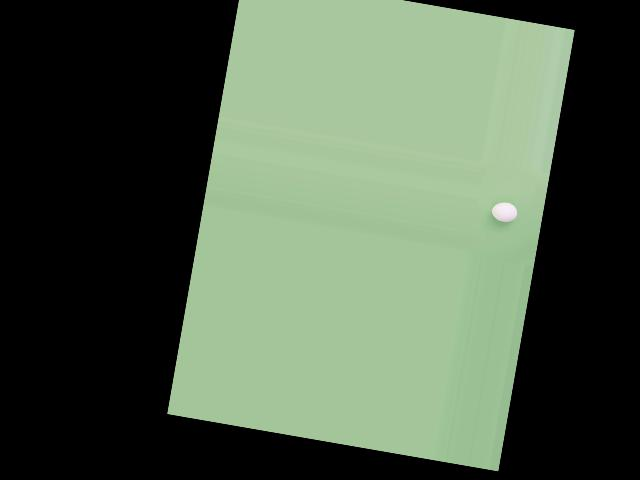egg: (490, 200, 519, 224)
